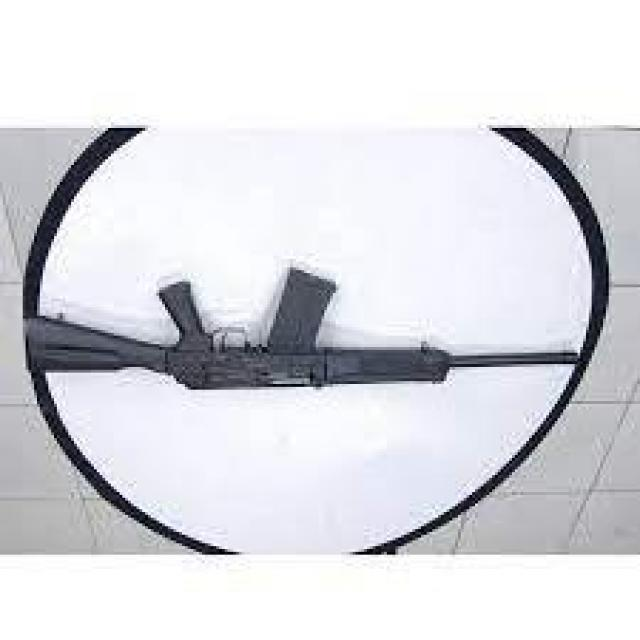weapon: (22, 267, 580, 394)
